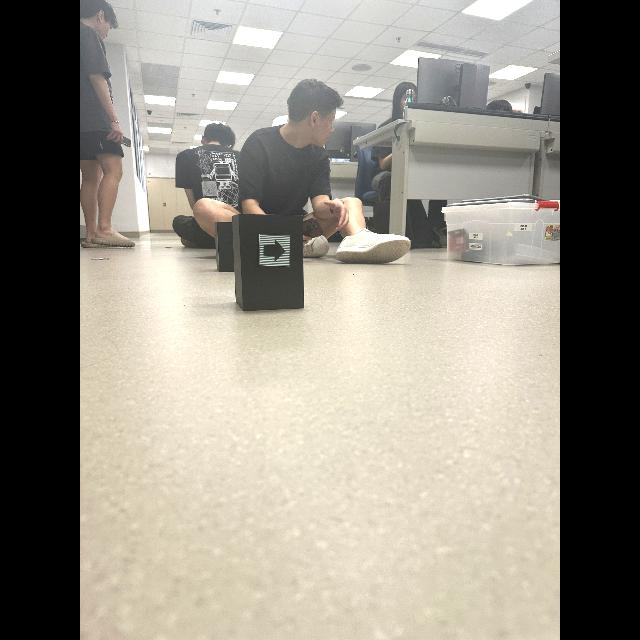RIGHT: (264, 239, 285, 262)
